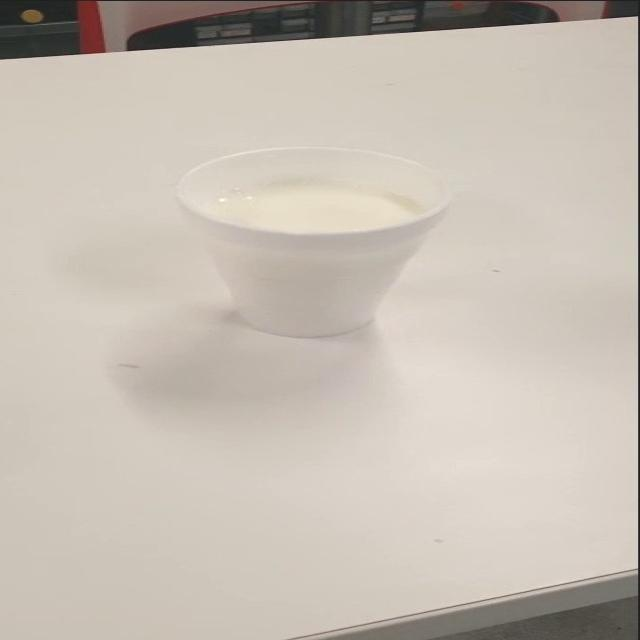milk: (96, 127, 471, 350)
